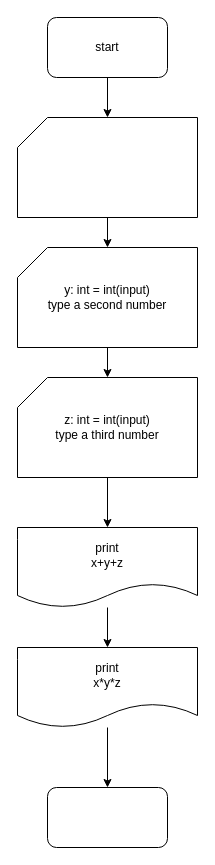
Some shapes in this 215 by 865 pixel diagram are drawn without their labels. Each missing label, with the centre of its shape:
end: point 107,817
x: int = int(input) type a first number: point 107,167
